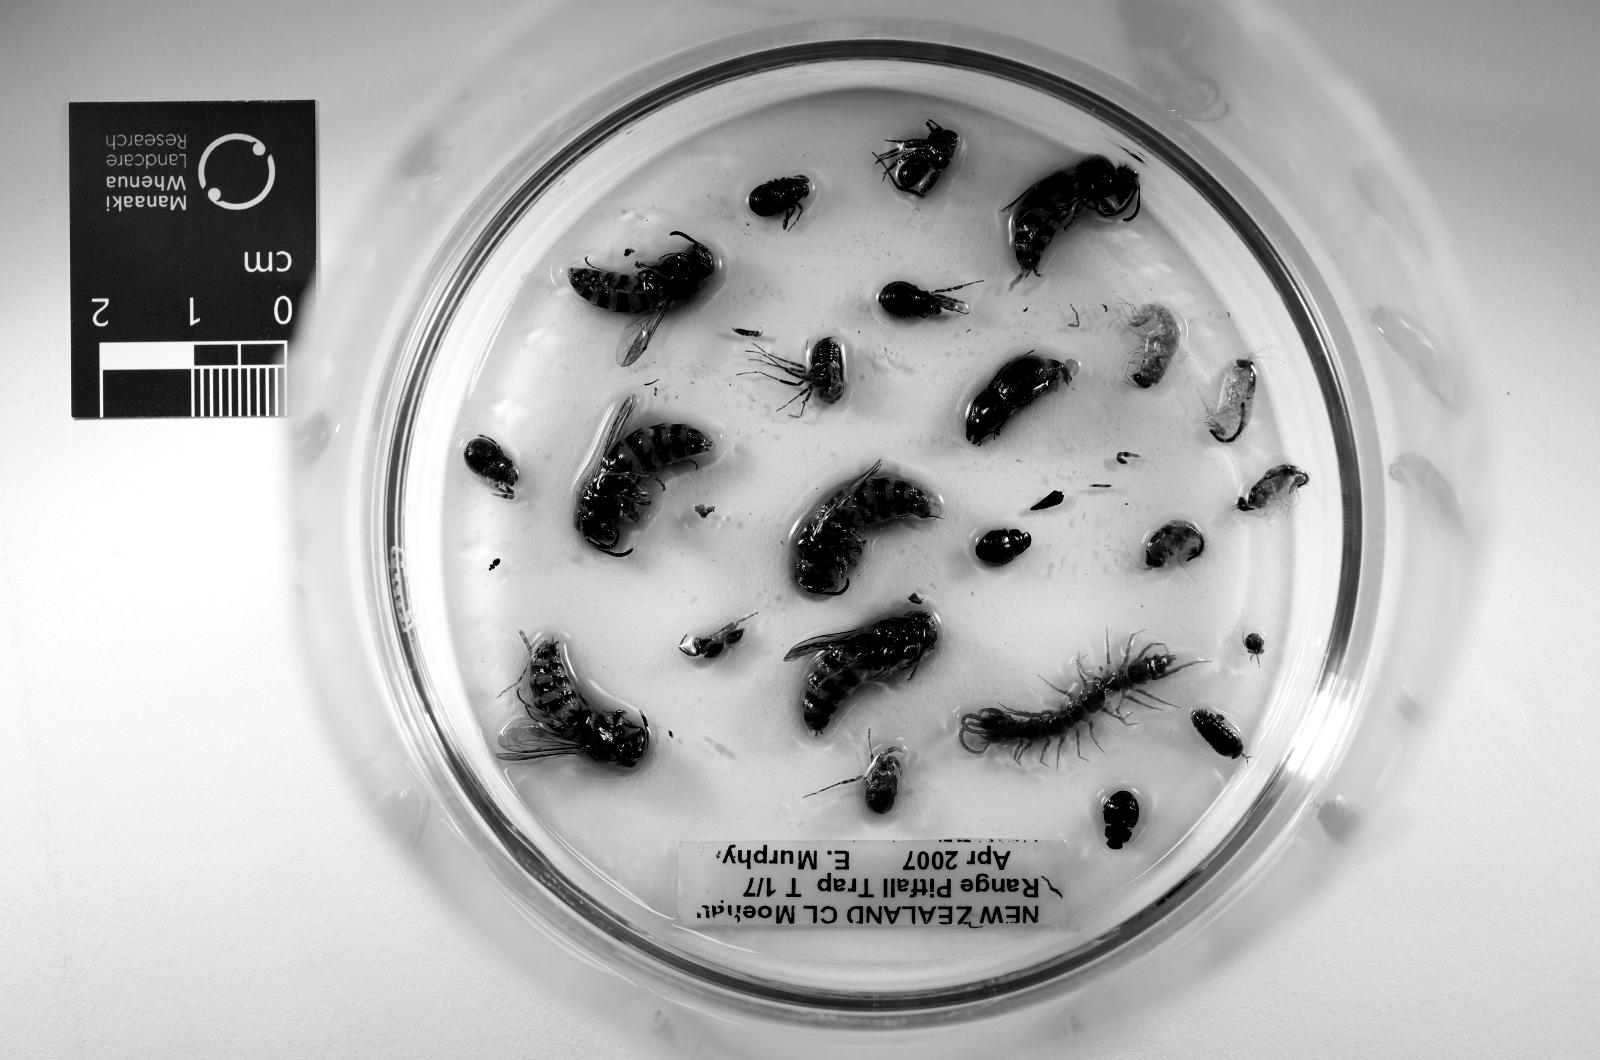acari: (1244, 634, 1265, 658)
amphipoda: (1125, 304, 1181, 388), (1206, 360, 1256, 444), (1237, 463, 1309, 512), (1147, 522, 1203, 568)
araneae: (875, 121, 959, 199), (678, 618, 747, 658)
carabidae: (966, 354, 1078, 444)
chilopoda: (959, 636, 1200, 767)
coleoptera: (1103, 789, 1141, 851), (974, 528, 1031, 565)
isopoda: (1191, 707, 1244, 757)
opiliones: (750, 338, 847, 407), (835, 733, 903, 814), (462, 435, 519, 500), (747, 174, 809, 230), (879, 283, 969, 317)
vespidae: (575, 397, 713, 556), (569, 230, 715, 367), (500, 634, 650, 767), (784, 612, 938, 736), (797, 459, 934, 593), (1003, 155, 1141, 283)
